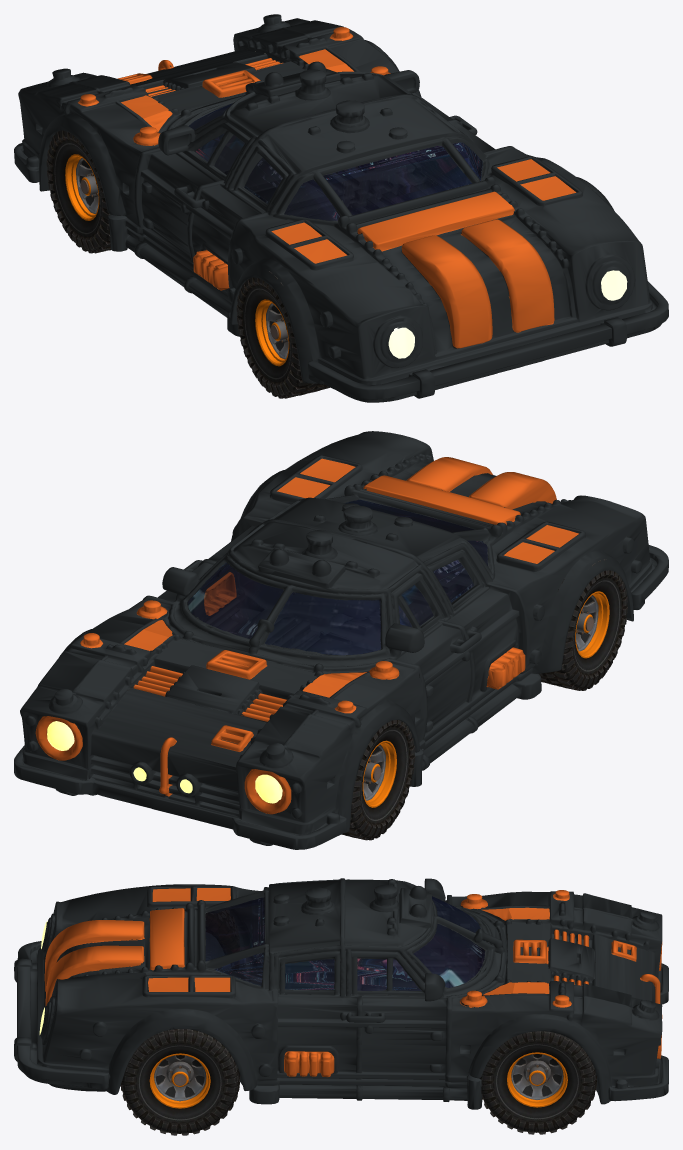
File: cyber-muscle.glb
3 renders of one model, top to bottom at view 1: azimuth 30°, elevation 25°; view 2: azimuth 150°, elevation 25°; view 3: azimuth 270°, elevation 25°, orthographic. The views are drawn at different scales.
Parts seen in each view (by area): view 1: body, wheel-rear-left, wheel-front-left; view 2: body, wheel-rear-left, wheel-front-left; view 3: body, wheel-rear-right, wheel-front-right, wheel-rear-left.
Part boxes in pixels (x1=…): body: x1=14, y1=14, x2=668, y2=402; wheel-rear-left: x1=236, y1=271, x2=329, y2=398; wheel-front-left: x1=46, y1=130, x2=110, y2=253; body: x1=14, y1=431, x2=668, y2=849; wheel-rear-left: x1=539, y1=559, x2=627, y2=690; wheel-front-left: x1=341, y1=720, x2=415, y2=840; body: x1=14, y1=878, x2=668, y2=1109; wheel-rear-right: x1=120, y1=1029, x2=240, y2=1135; wheel-front-right: x1=479, y1=1031, x2=597, y2=1134; wheel-rear-left: x1=131, y1=910, x2=239, y2=970.
Size of the model in its own units: 2.46 by 1.42 by 4.7.
Materials: 5 (2 with a texture image).
